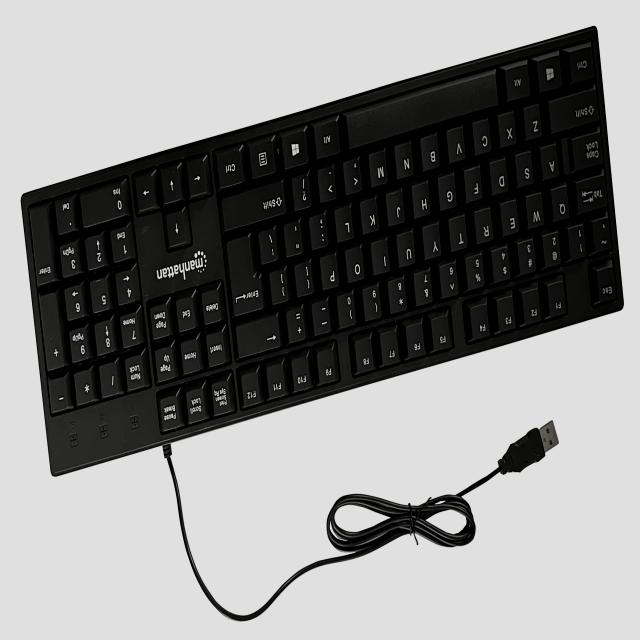clavier: (14, 13, 622, 487)
